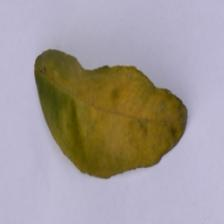greening: (79, 71, 172, 166)
